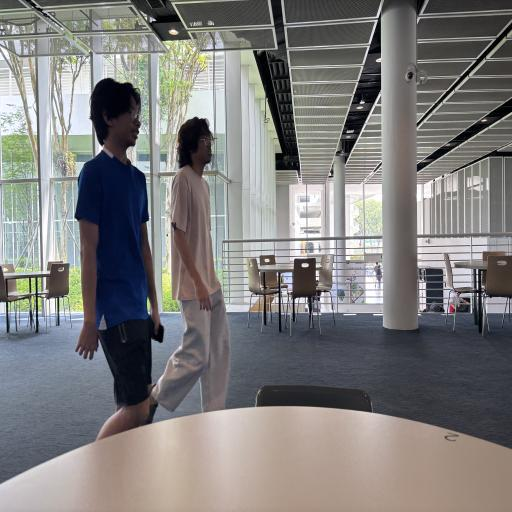person_right: (64, 67, 160, 442), (165, 114, 244, 426)
